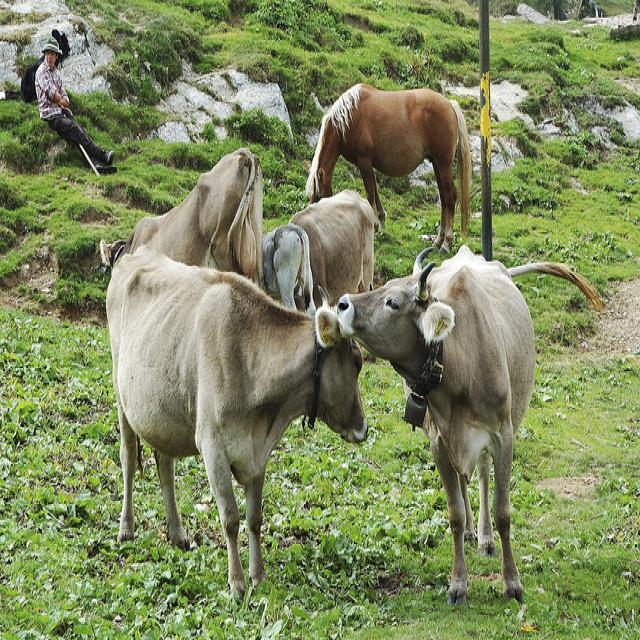cow: (105, 240, 370, 602), (341, 239, 535, 606), (98, 144, 264, 292), (287, 189, 375, 306), (261, 223, 312, 309)
